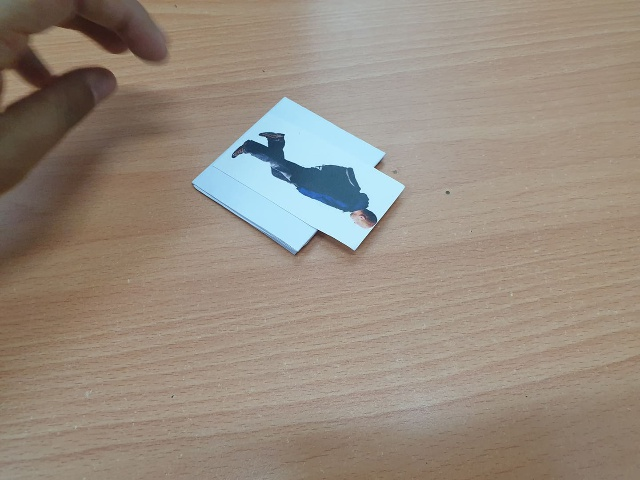Person: (233, 131, 380, 229)
